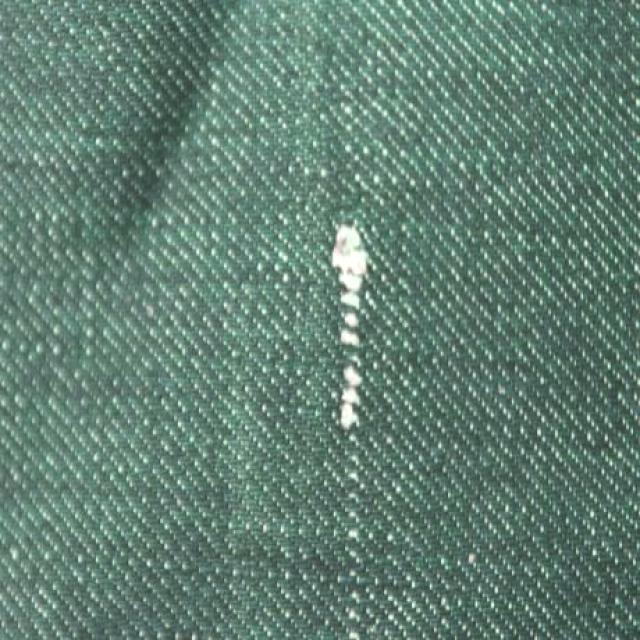Thread_other: (176, 146, 511, 640)
